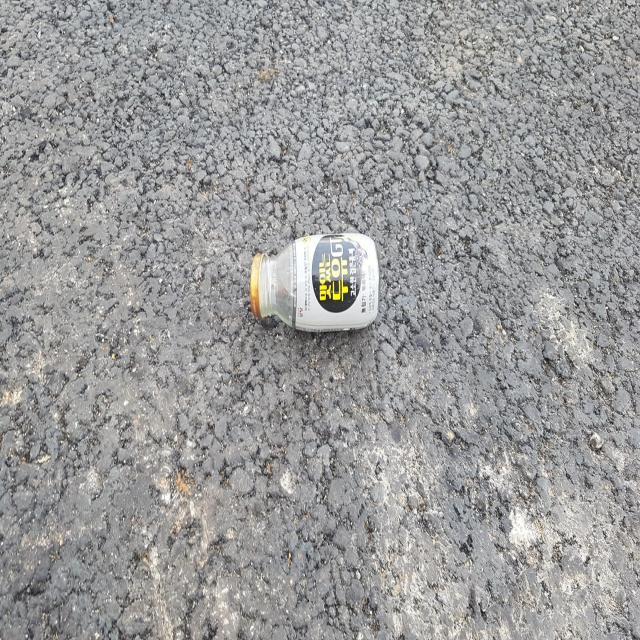glass: (250, 232, 380, 330)
